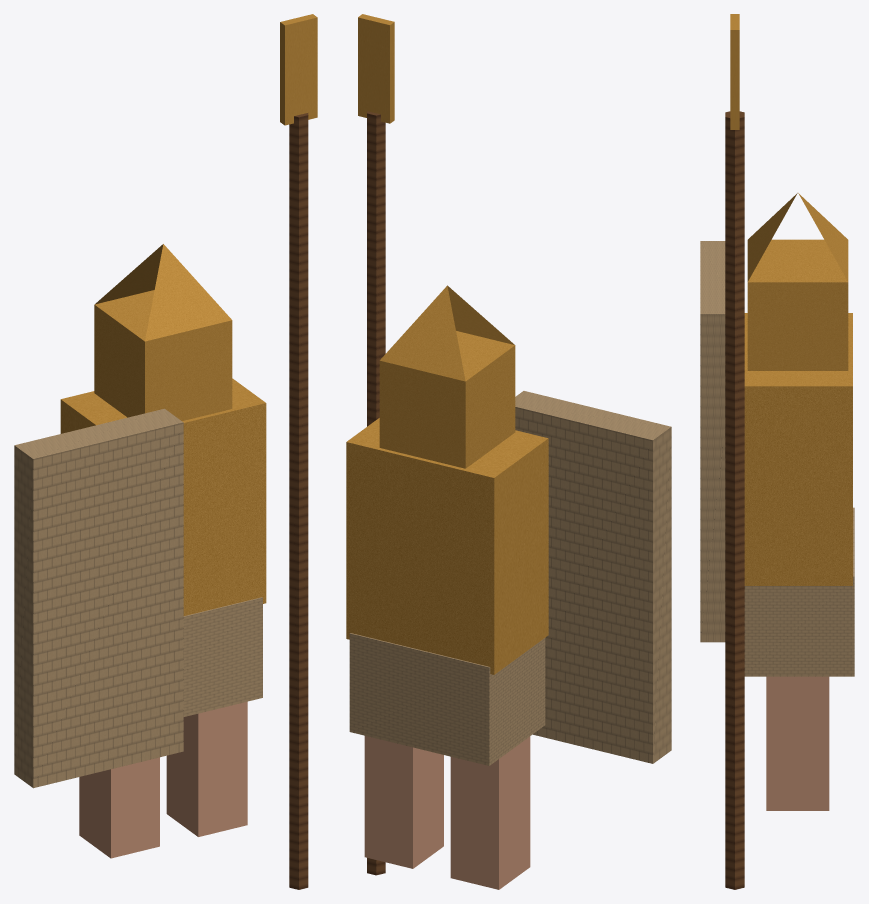
The model's file is soldier_spearman.obj.
3 views of the same model, side by side, from view 1: azimuth 30°, elevation 25°; view 2: azimuth 150°, elevation 25°; view 3: azimuth 270°, elevation 25° (orthographic).
Size of the model in its own units: 1.09 by 3.03 by 0.49.
Materials: 6 (5 with a texture image).
